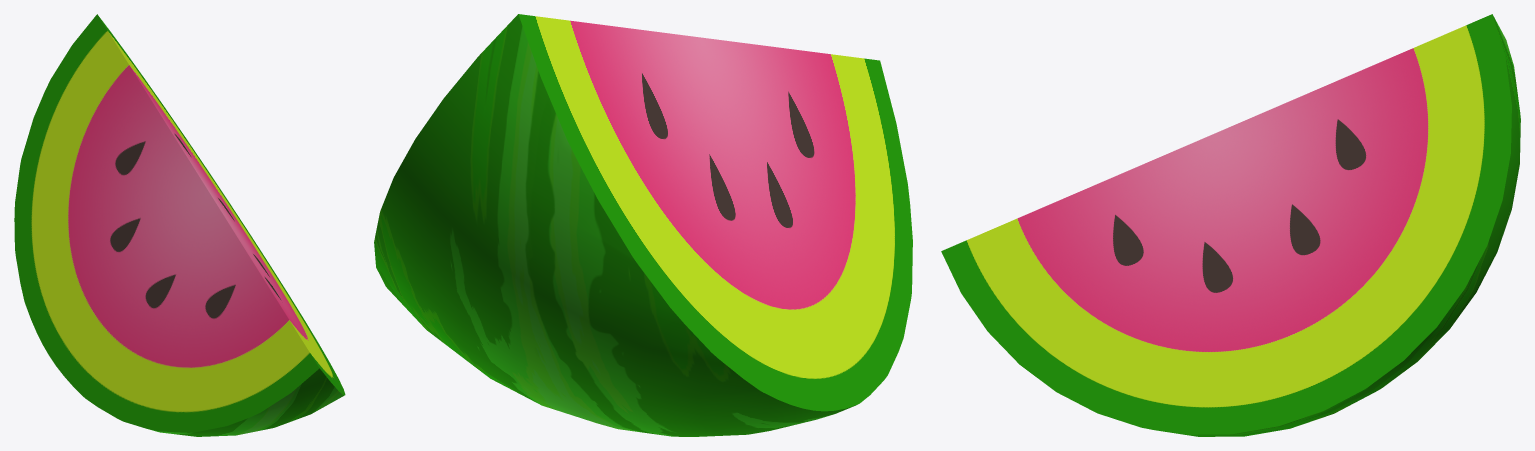
File: watermelon.fbx
The picture shows the model from 3 angles, left to right: view 1: azimuth 30°, elevation 25°; view 2: azimuth 150°, elevation 25°; view 3: azimuth 270°, elevation 25°; orthographic projection. The views are drawn at different scales.
Visible parts, largest first — view 1: Sphere_2; view 2: Sphere_2; view 3: Sphere_2.
Part boxes in pixels (left/top/right/bottom): Sphere_2: left=14, top=14, right=345, bottom=436; Sphere_2: left=374, top=14, right=912, bottom=436; Sphere_2: left=941, top=14, right=1520, bottom=436.
Bounding box in the file's own units: 117 × 149 × 199.
1 material, 1 textured.
